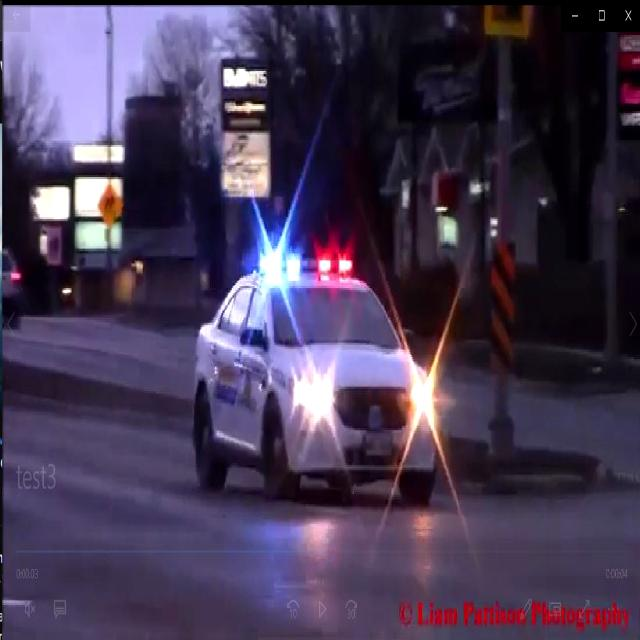emergency: (193, 231, 438, 508)
